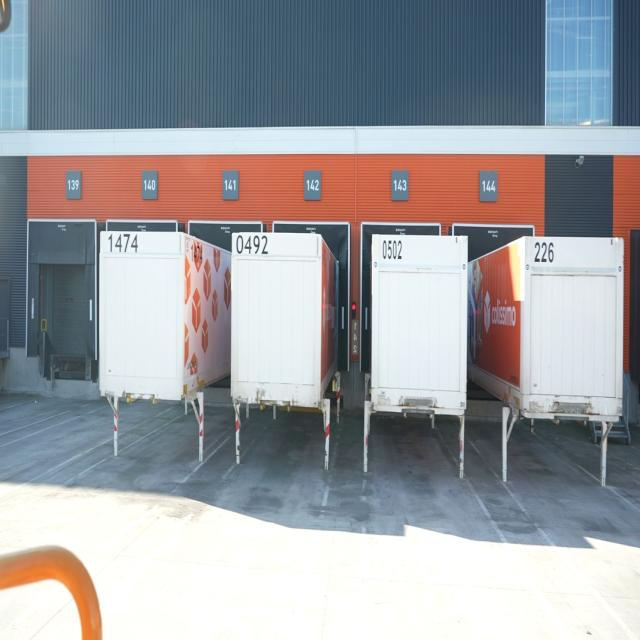Code: (230, 226, 272, 260), (104, 225, 142, 259), (526, 232, 558, 270), (380, 235, 406, 266)
